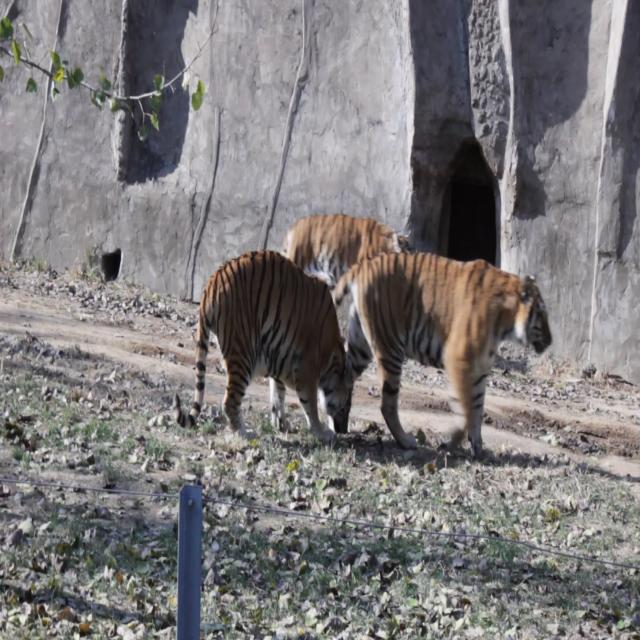Tiger: (343, 244, 559, 472), (172, 246, 354, 443), (274, 194, 418, 278)
